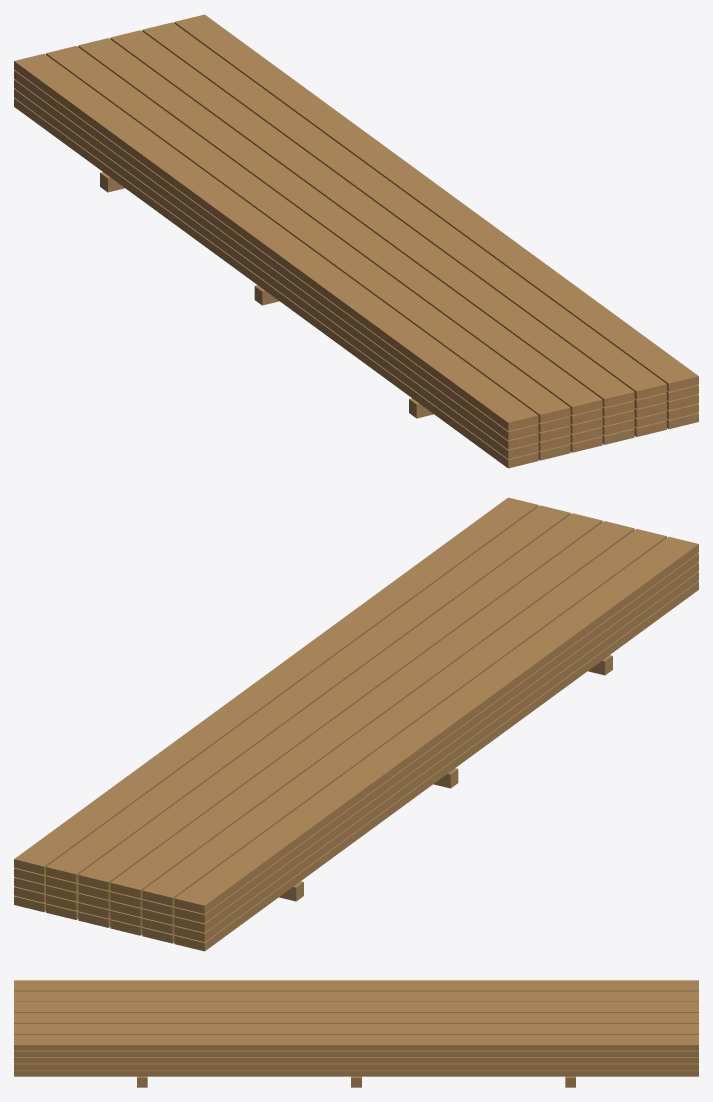
File: plant.store.timber.glb
The picture shows the model from 3 angles, top to bottom: view 1: azimuth 30°, elevation 25°; view 2: azimuth 150°, elevation 25°; view 3: azimuth 270°, elevation 25°; orthographic projection. The views are drawn at different scales.
Parts seen in each view (by area): view 1: main__softwood; view 2: main__softwood; view 3: main__softwood.
Boxes of the visible parts, box(x1,y1,x2,y2) form: main__softwood: box(14, 14, 698, 468); main__softwood: box(14, 497, 698, 951); main__softwood: box(14, 980, 698, 1087).
Size of the model in its own units: 1.1 by 0.3225 by 4.8.
